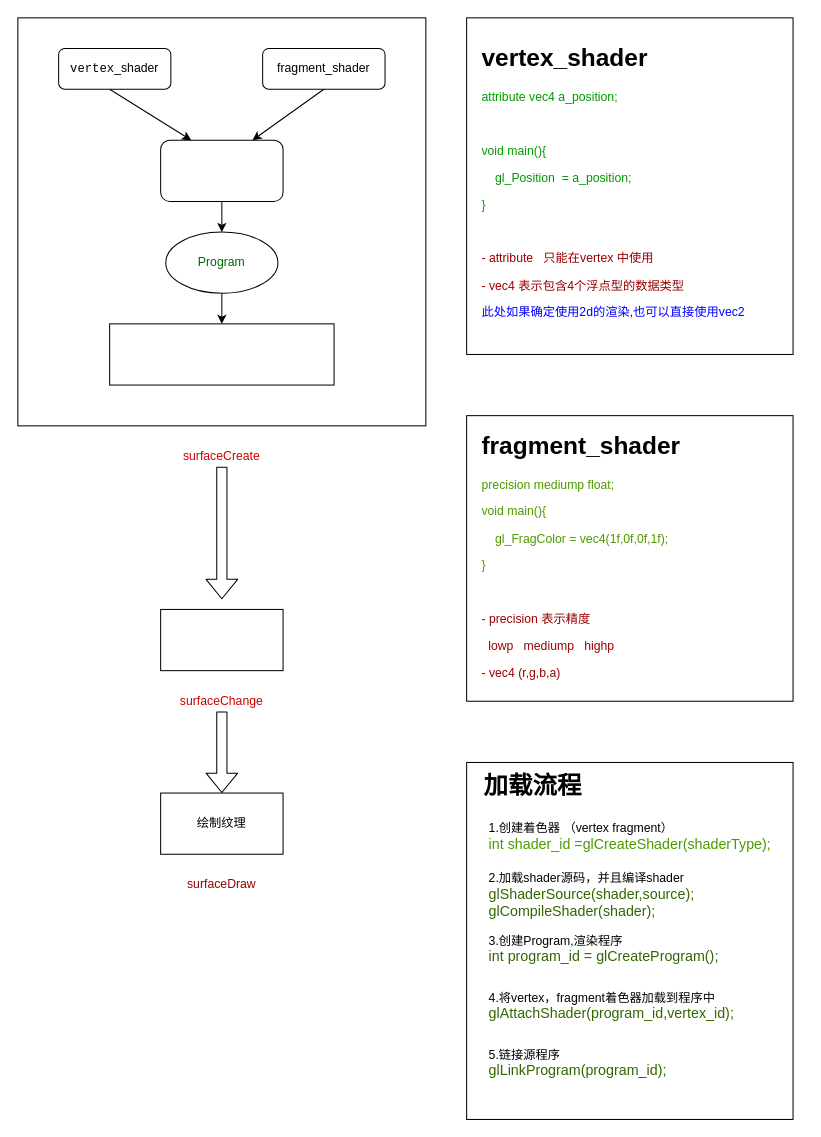
Image size: 821x1137. Some labels were removed from this diagram. Each missing label, with the centre of its shape:
加载shader编译 链接: (221,170)
设置大小 / 旋转方向 投影的设置: (221,639)
设置相关的属性/获取变量 初始化一些必要的参数: (221,354)
